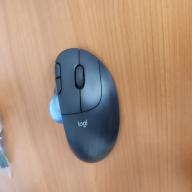mouse: (47, 46, 122, 164)
